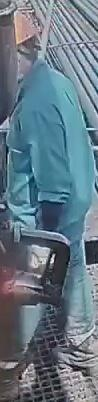helmet: (12, 11, 42, 54)
vest: (0, 59, 97, 232)
